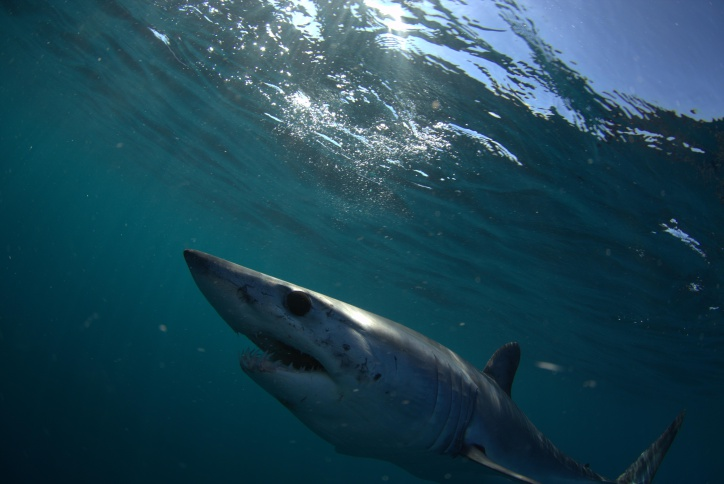Mako: (171, 236, 699, 484)
